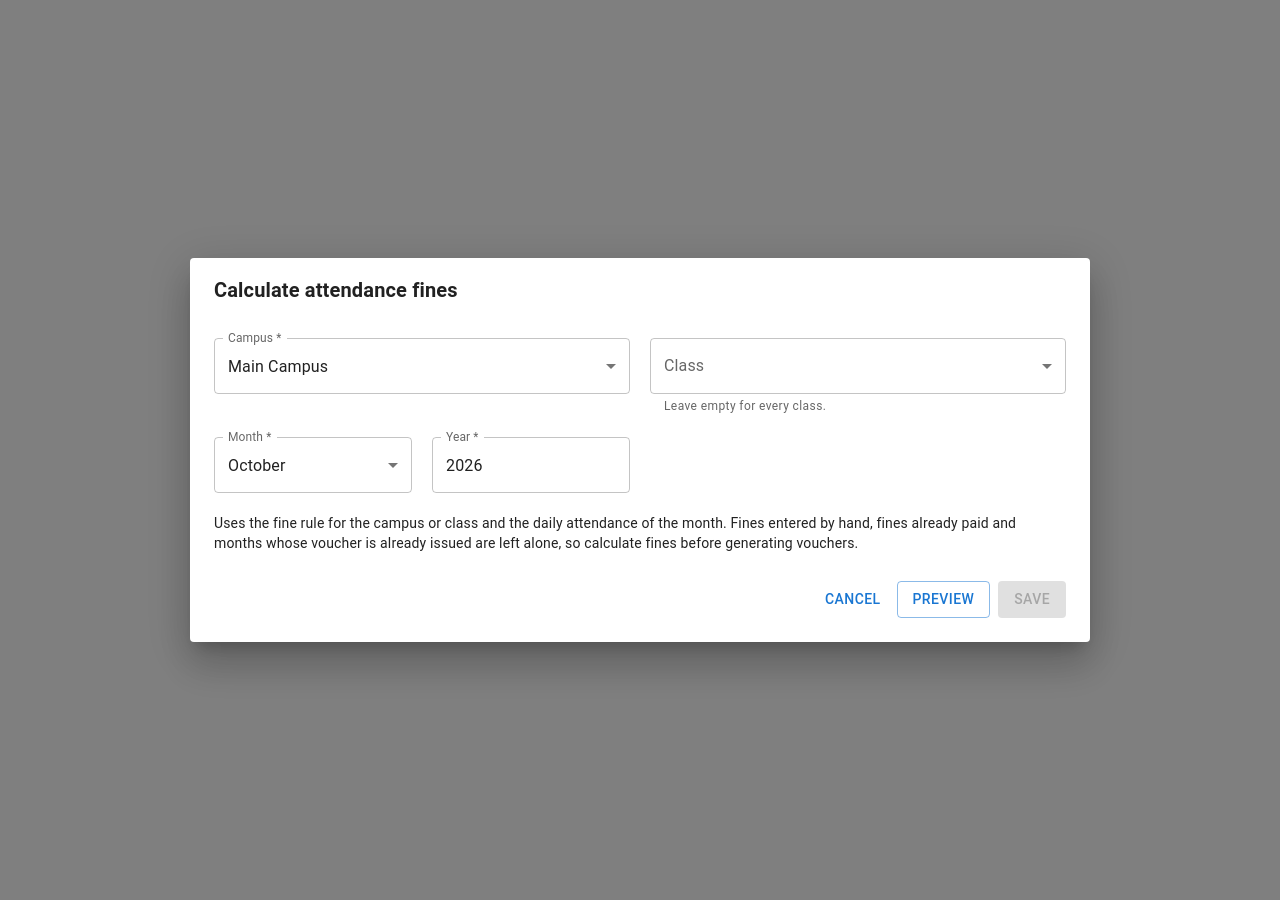
Test: CalculateFinesDialog › invalidates the preview when anything changes
Click the button "Preview" at [943, 599], box [896,581,990,618]
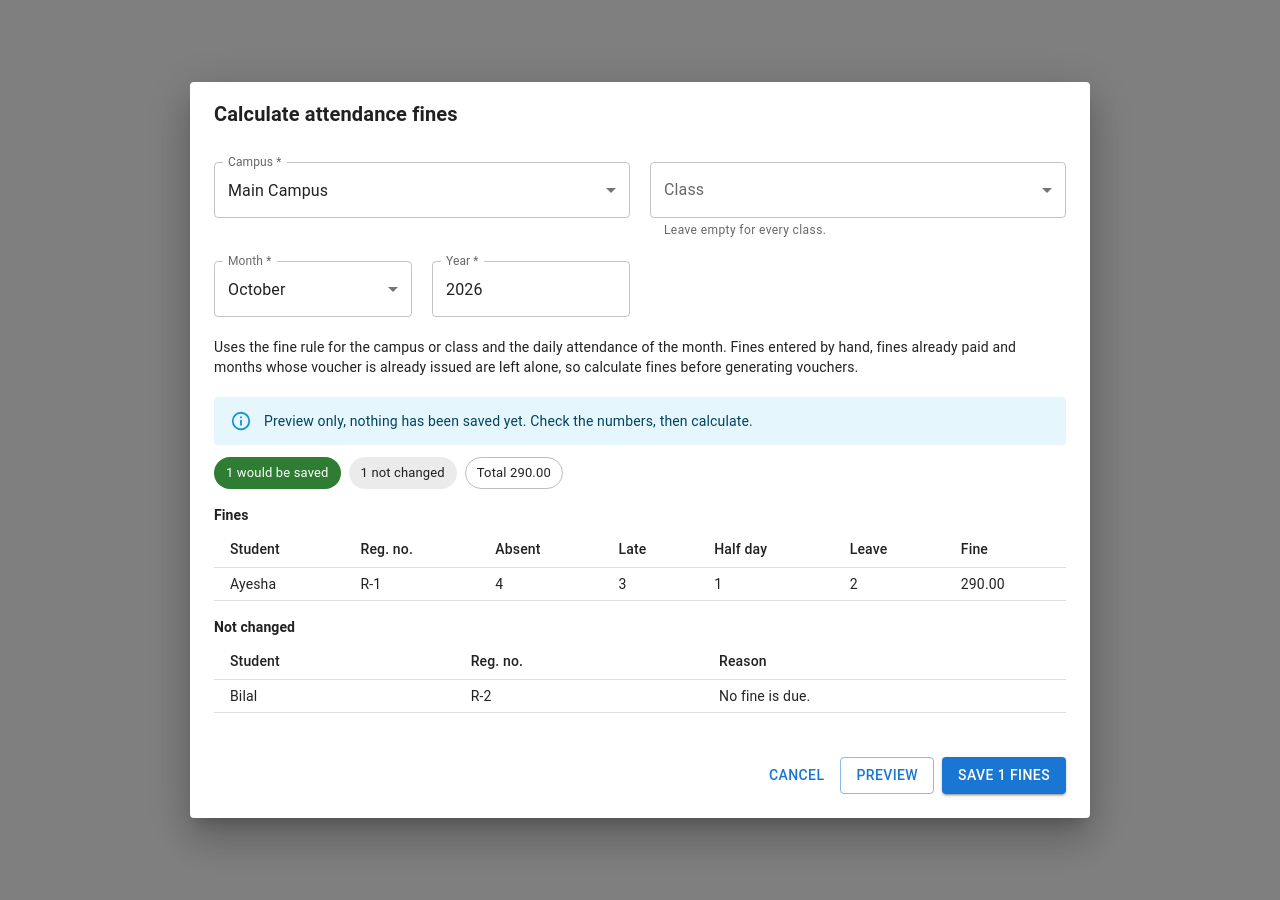
Expected: the text "1 would be saved" is shown, [226,466,328,480]
Replace the text in the number field labelled "Year *" with "2027" at [531, 289], box [432,261,630,317]
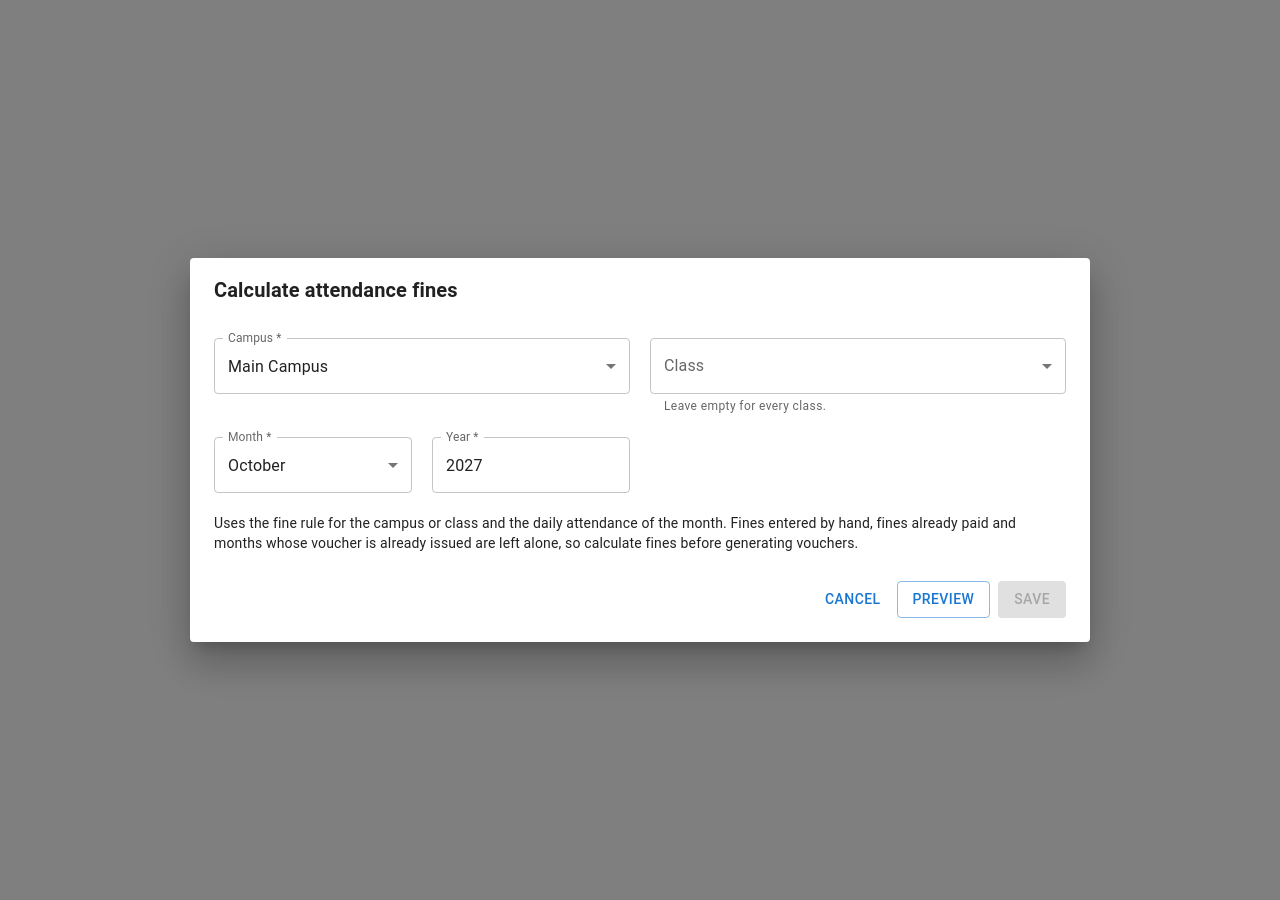
Expected: the text "1 would be saved" is gone
Expected: the button "Save" is disabled, [998,581,1066,618]
